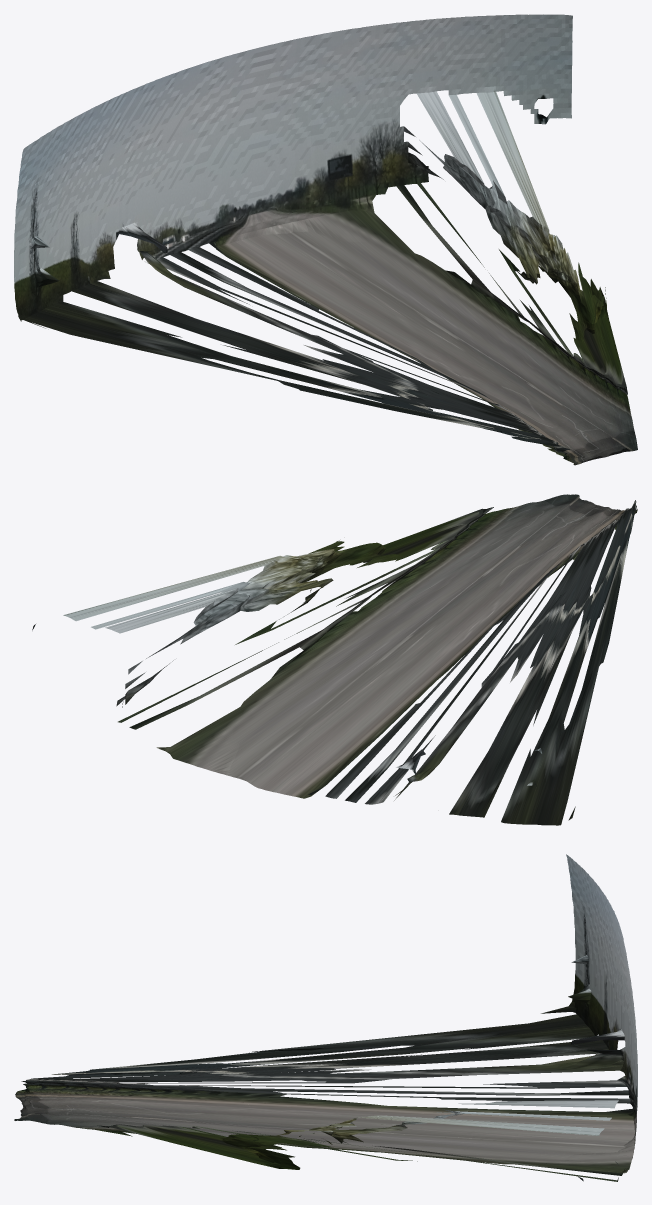
3 renders of one model, top to bottom at view 1: azimuth 30°, elevation 25°; view 2: azimuth 150°, elevation 25°; view 3: azimuth 270°, elevation 25°, orthographic. The views are drawn at different scales.
Visible parts, largest first — view 1: defaultobject; view 2: defaultobject; view 3: defaultobject.
Part boxes in pixels (x1,y1,x2,y2): defaultobject: [14, 14, 637, 465]; defaultobject: [32, 494, 637, 825]; defaultobject: [14, 854, 637, 1181].
Size of the model in its own units: 41.14 by 13.61 by 44.64.
1 material, 1 textured.
